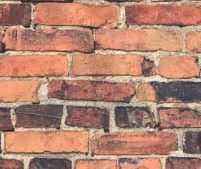brick: (45, 78, 134, 105), (5, 27, 93, 52), (95, 28, 183, 52), (35, 2, 119, 27), (4, 132, 90, 155), (89, 132, 179, 153), (71, 53, 146, 77), (123, 4, 201, 26), (1, 55, 68, 77), (133, 82, 201, 103), (13, 107, 60, 129), (1, 78, 42, 103), (66, 106, 110, 129), (158, 55, 201, 78), (115, 107, 155, 127), (159, 108, 201, 127), (1, 3, 32, 26), (26, 157, 71, 169), (119, 158, 159, 169), (75, 158, 118, 168), (164, 158, 201, 168)
